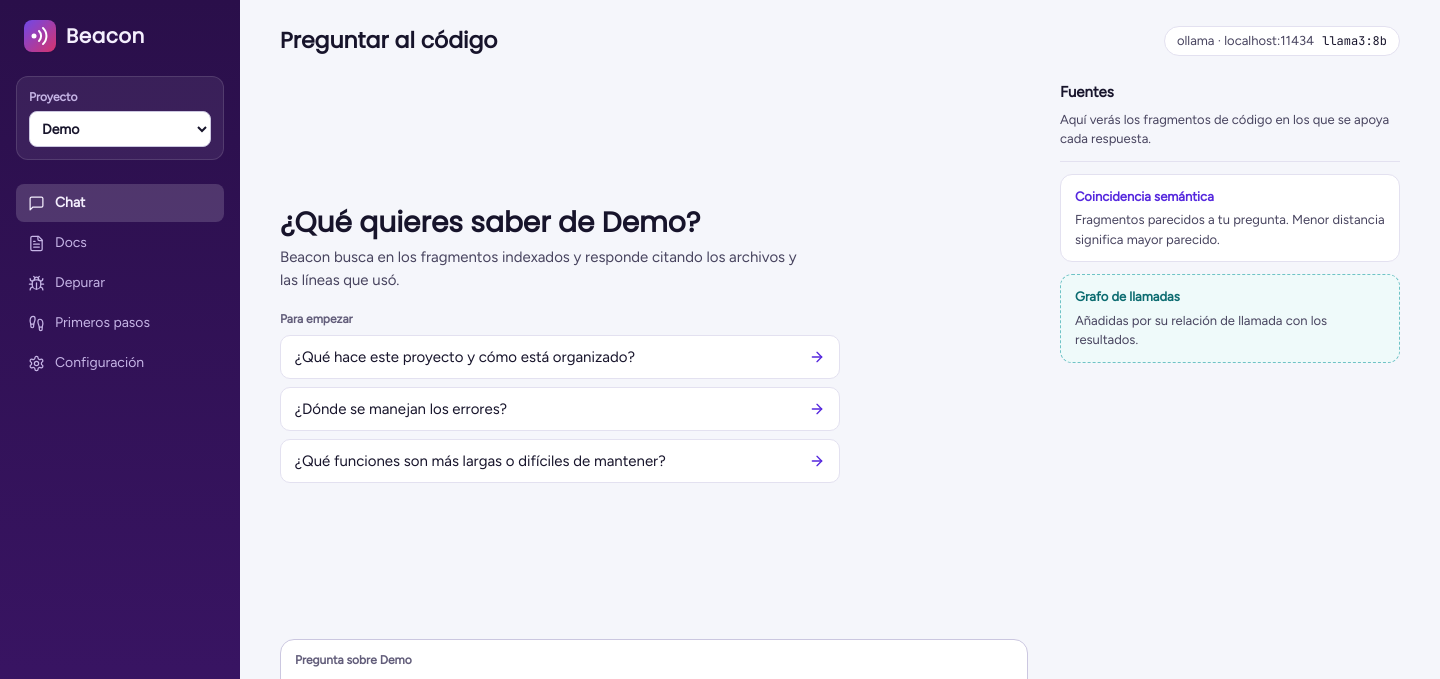
navegación › cambia de vista con los enlaces de la barra lateral
The image size is (1440, 679).
Click the link "Docs". click: {"x": 57, "y": 243}
box: [28,234,87,252]
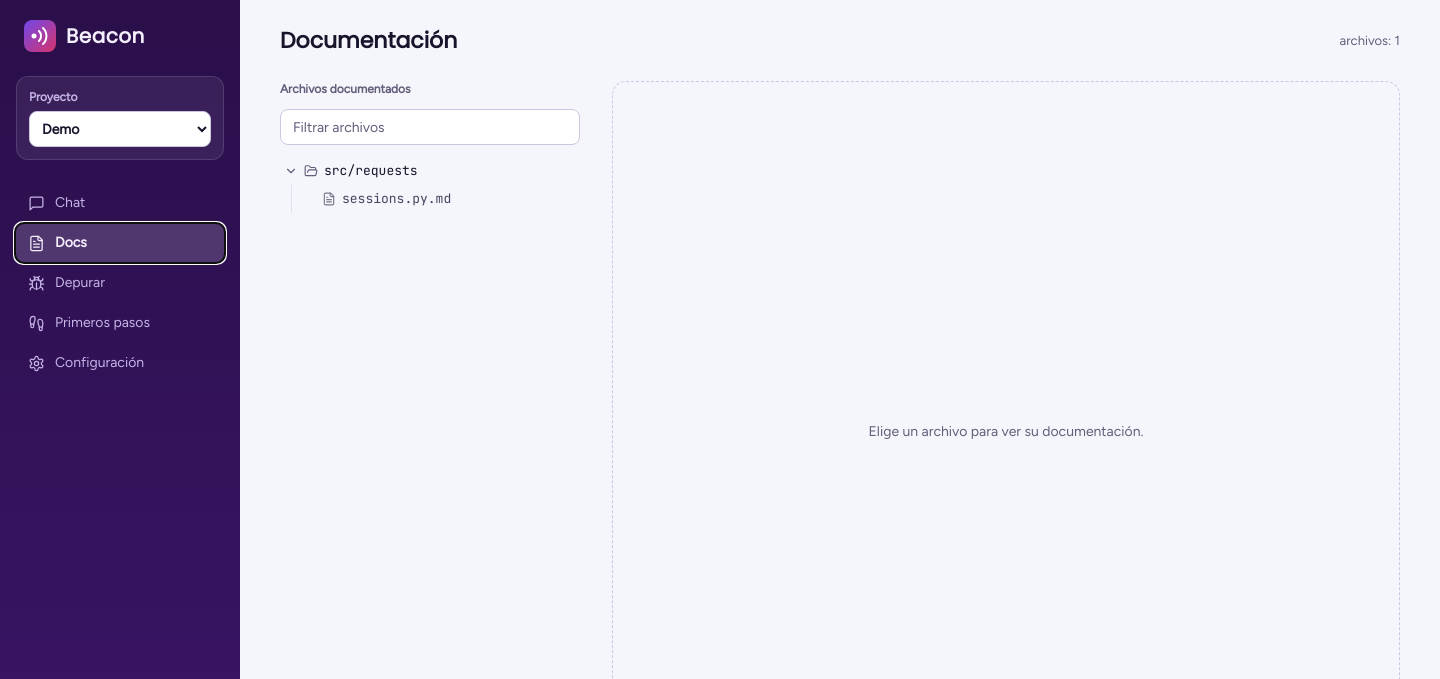
Check: the heading "Archivos documentados" is shown, box [280,82,411,96]
Click the link "Configuración". click: {"x": 86, "y": 363}
box: [28,354,144,372]
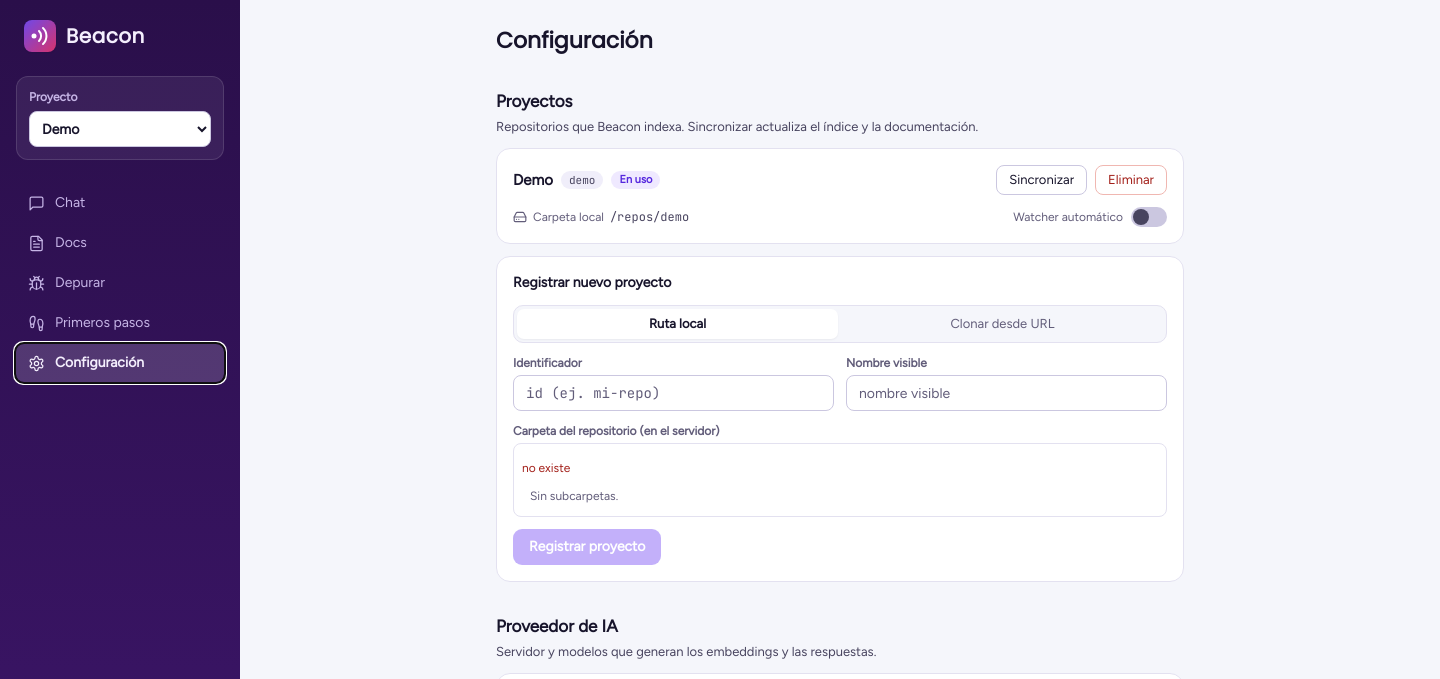
Check: the heading "Proveedor de IA" is shown, box [496,616,618,636]
